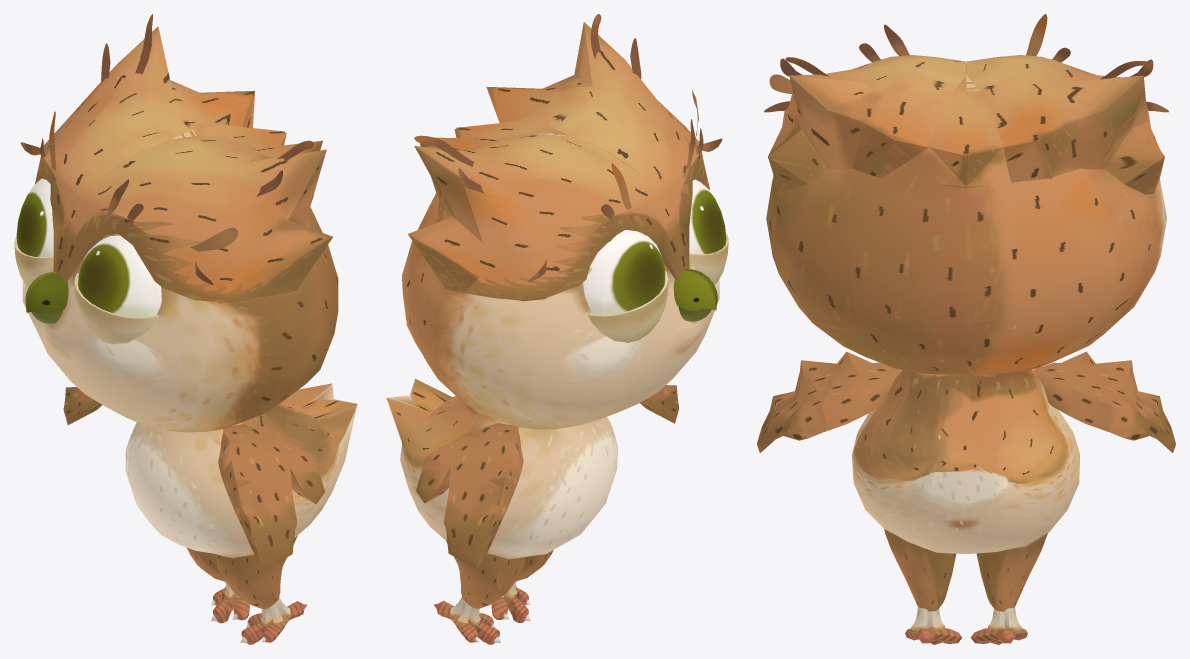
File: owl.glb
The picture shows the model from 3 angles, left to right: view 1: azimuth 30°, elevation 25°; view 2: azimuth 150°, elevation 25°; view 3: azimuth 270°, elevation 25°; orthographic projection. The views are drawn at different scales.
Parts seen in each view (by area): view 1: body, eyes, wing_right, leg_right, maomao, leg_left, beak_top, wing_left; view 2: body, eyes, wing_left, leg_left, maomao, beak_top, leg_right, wing_right; view 3: body, wing_right, wing_left, leg_right, leg_left, maomao.
Boxes of the visible parts, bbox=[...] form: body: bbox=[22, 26, 357, 558]; eyes: bbox=[14, 178, 161, 344]; wing_right: bbox=[218, 424, 324, 569]; leg_right: bbox=[215, 536, 306, 644]; maomao: bbox=[20, 14, 313, 284]; leg_left: bbox=[186, 547, 249, 623]; beak_top: bbox=[25, 272, 68, 313]; wing_left: bbox=[63, 387, 101, 424]; body: bbox=[386, 22, 719, 559]; eyes: bbox=[583, 179, 728, 342]; wing_left: bbox=[416, 423, 523, 568]; leg_left: bbox=[434, 540, 525, 644]; maomao: bbox=[414, 14, 722, 282]; beak_top: bbox=[673, 269, 717, 310]; leg_right: bbox=[491, 550, 553, 622]; wing_right: bbox=[640, 385, 679, 423]; body: bbox=[766, 55, 1166, 553]; wing_right: bbox=[757, 351, 900, 452]; wing_left: bbox=[1032, 351, 1175, 452]; leg_right: bbox=[884, 529, 962, 644]; leg_left: bbox=[970, 533, 1047, 644]; maomao: bbox=[764, 14, 1168, 112].
Bounding box in the file's own units: 19.66 × 32.92 × 21.41.
8 materials, 7 textured.
